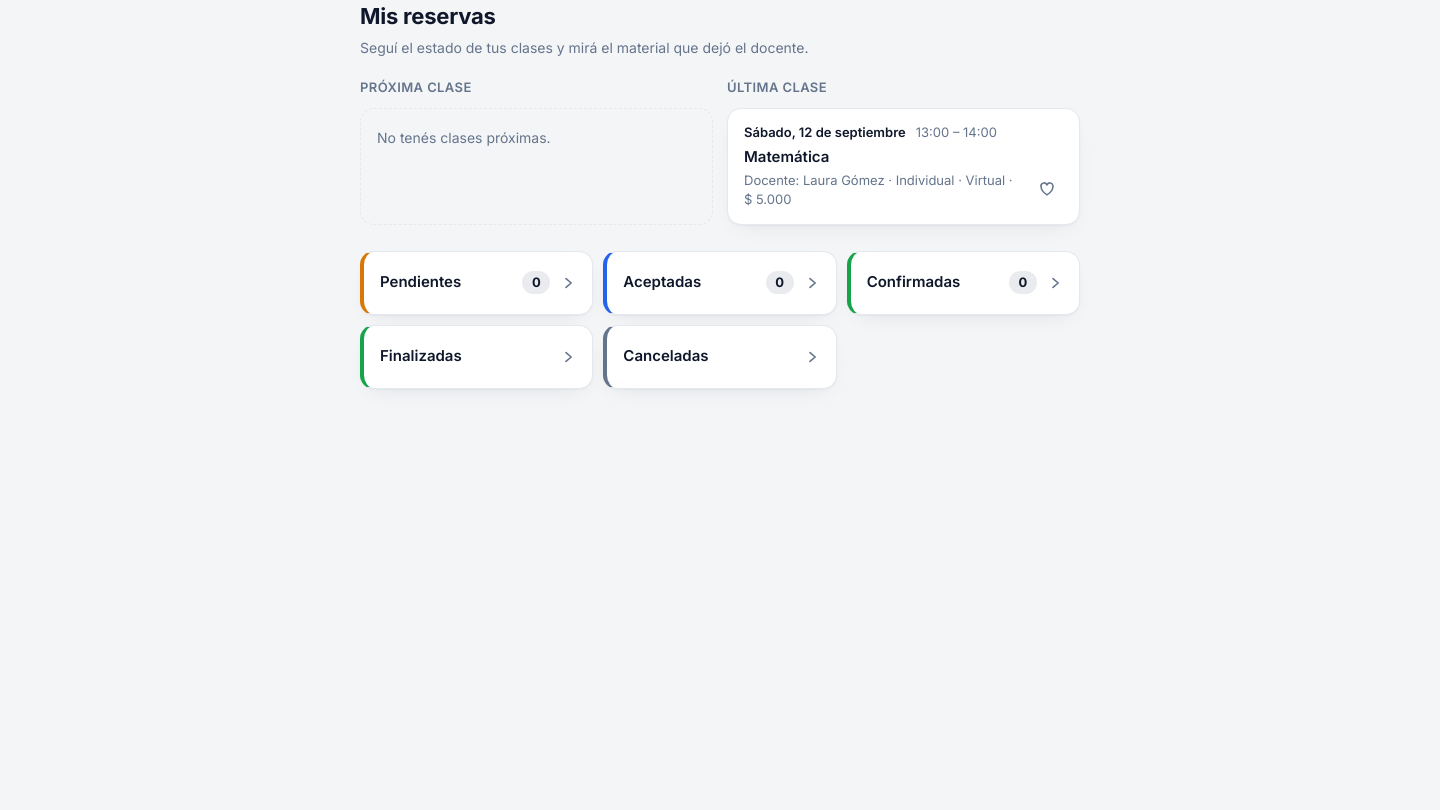
Test case: ReservationsPage › tocar la última clase abre su detalle
The width and height of the screenshot is (1440, 810).
Click the text "Docente: Laura Gómez".
click(884, 190)  # box [744,170,1023,210]
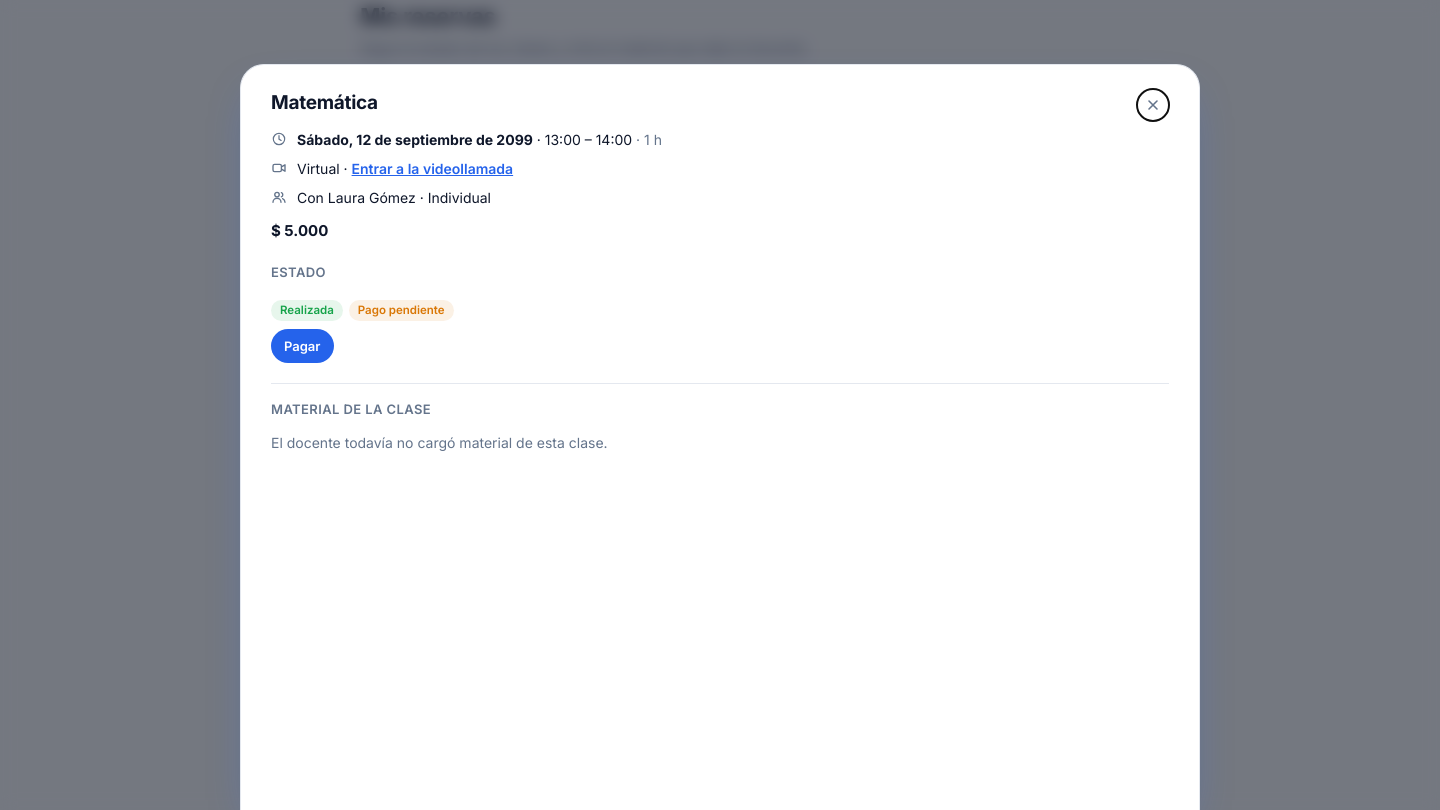
Expected: the dialog "Matemática" is shown
Expected: the text "El docente todavía no cargó material de esta clase." is shown, [271,434,608,451]
